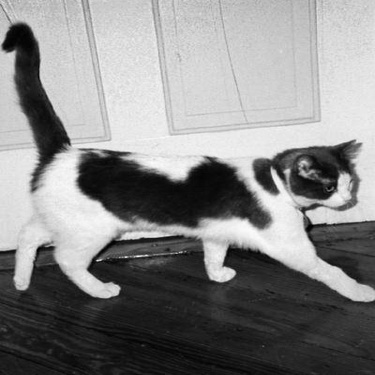cat: (5, 19, 371, 306)
